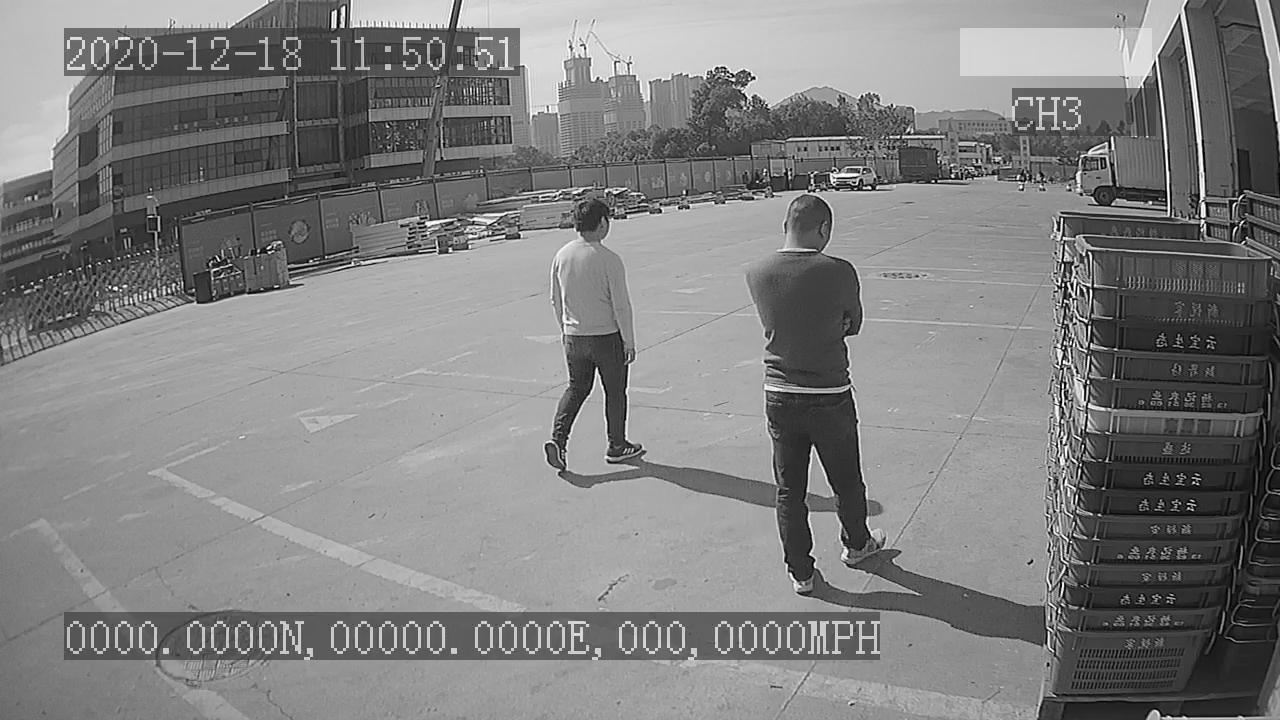person: (736, 190, 890, 599), (538, 197, 649, 472)
